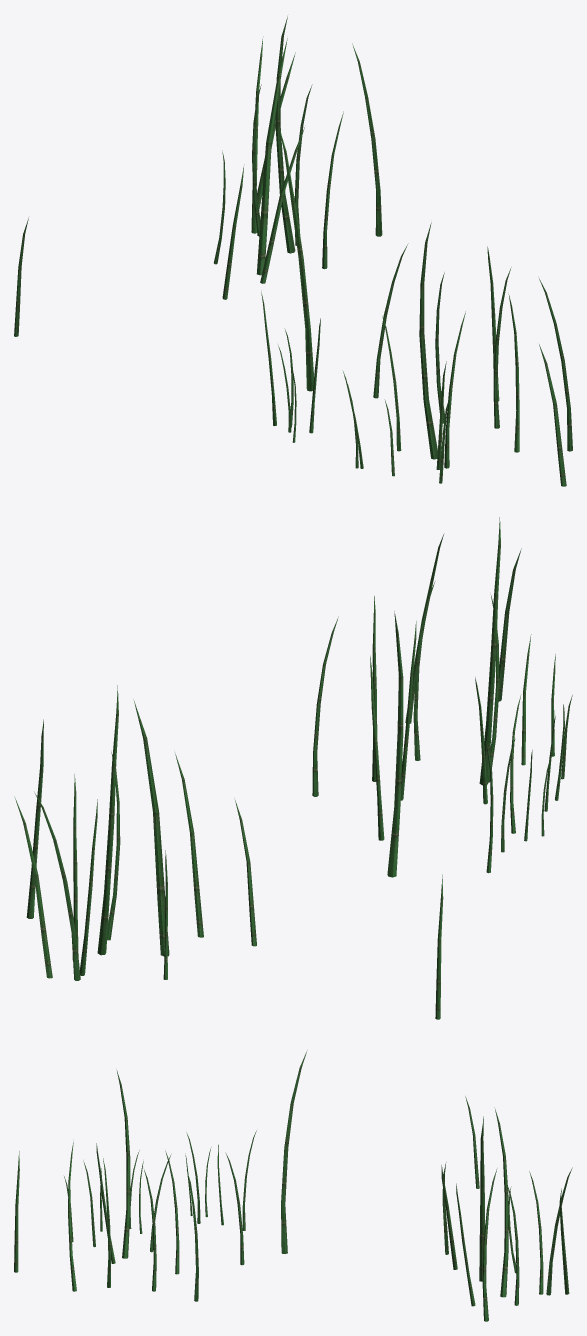
File: Area_08_23.fbx
3 views of the same model, one above another, from view 1: azimuth 30°, elevation 25°; view 2: azimuth 150°, elevation 25°; view 3: azimuth 270°, elevation 25° (orthographic). The views are drawn at different scales.
Visible parts, largest first — view 1: Area_08_23; view 2: Area_08_23; view 3: Area_08_23.
Part boxes in pixels (x1,y1,x2,y2): Area_08_23: [14, 16, 572, 486]; Area_08_23: [14, 517, 572, 1019]; Area_08_23: [14, 1050, 572, 1321].
Bounding box in the file's own units: 3108 × 2080 × 5272.
